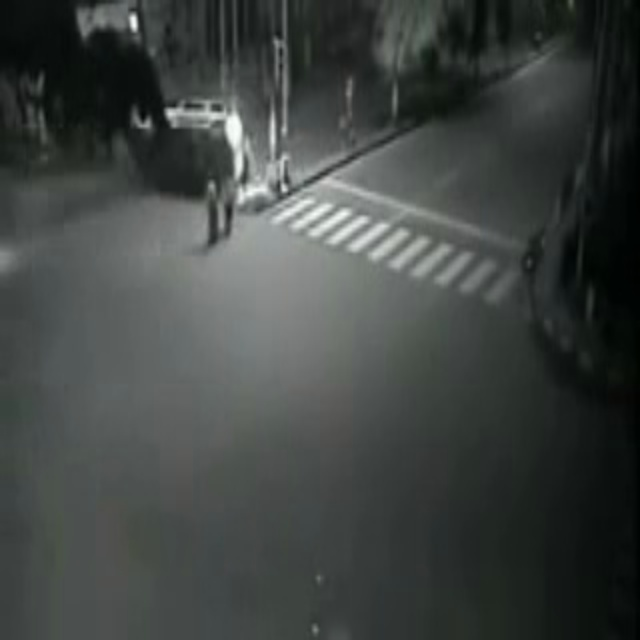acc: (128, 92, 257, 202)
